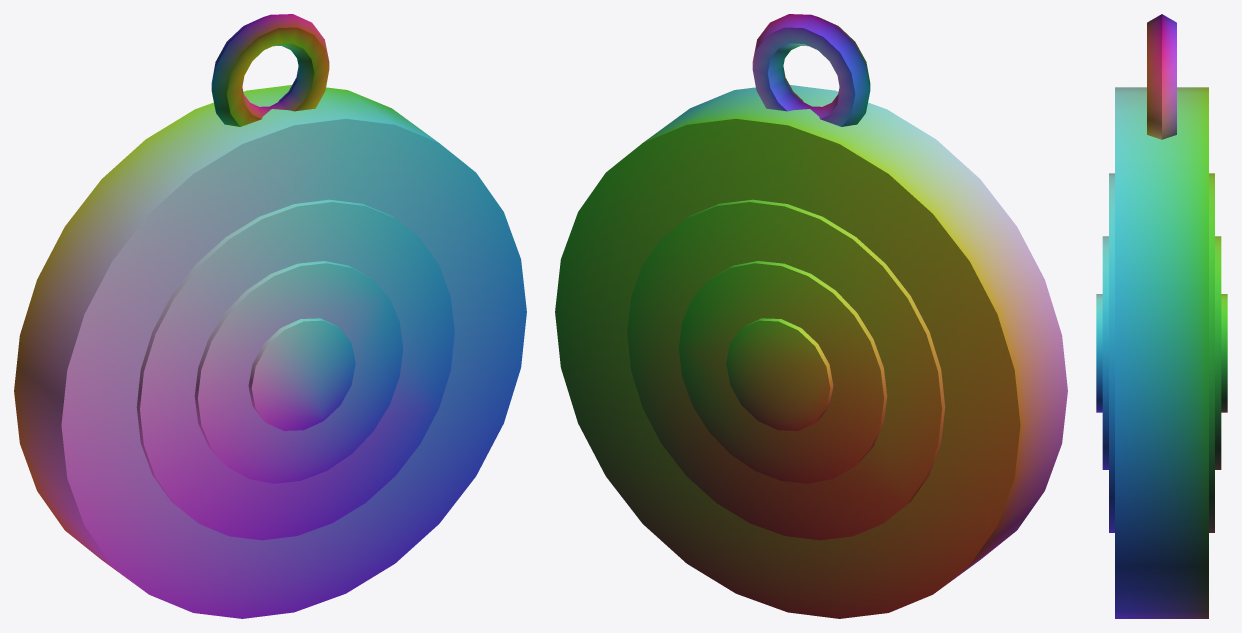
File: bead.fbx
The picture shows the model from 3 angles, left to right: view 1: azimuth 30°, elevation 25°; view 2: azimuth 150°, elevation 25°; view 3: azimuth 270°, elevation 25°; orthographic projection.
Visible parts, largest first — view 1: bead; view 2: bead; view 3: bead.
Part boxes in pixels (<box>): bead: <box>14,14,526,618</box>; bead: <box>555,14,1067,618</box>; bead: <box>1096,14,1227,618</box>.
Size of the model in its own units: 0.34 by 0.405 by 0.084.
